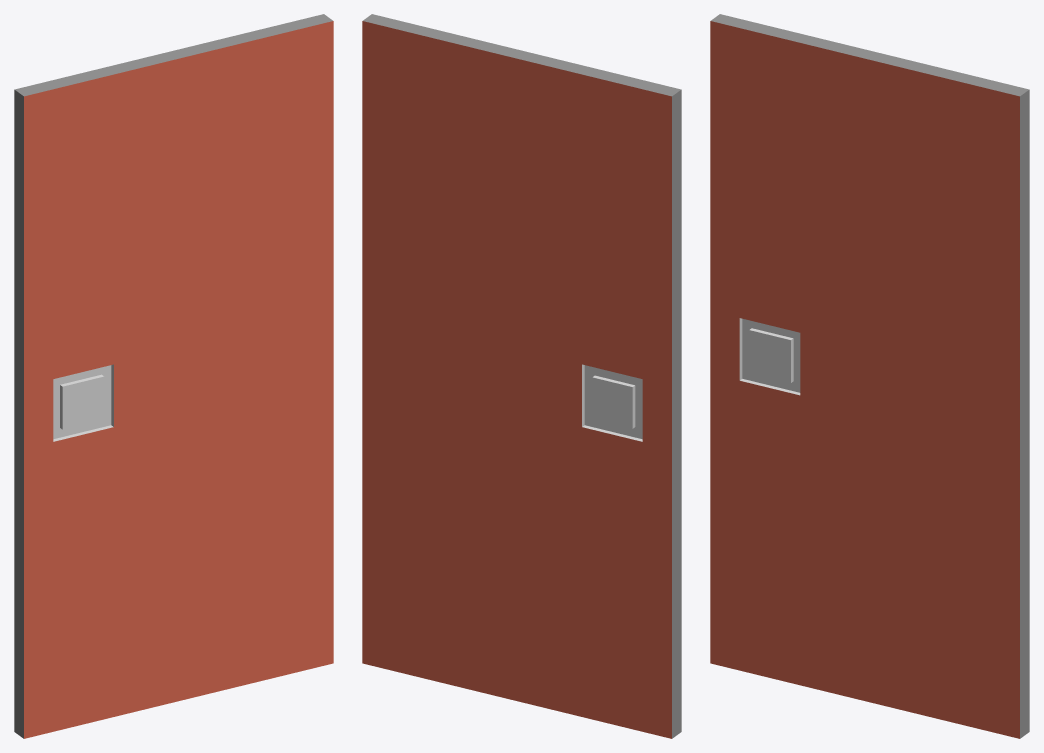
The model's file is Door_2.fbx.
3 views of the same model, side by side, from view 1: azimuth 30°, elevation 25°; view 2: azimuth 150°, elevation 25°; view 3: azimuth 330°, elevation 25° (orthographic).
Parts seen in each view (by area): view 1: Cube.003; view 2: Cube.003; view 3: Cube.003.
Part boxes in pixels (x1,y1,x2,y2): Cube.003: (14, 14, 333, 738); Cube.003: (362, 14, 681, 738); Cube.003: (710, 14, 1029, 738).
Bounding box in the file's own units: 250 × 496 × 13.28.
